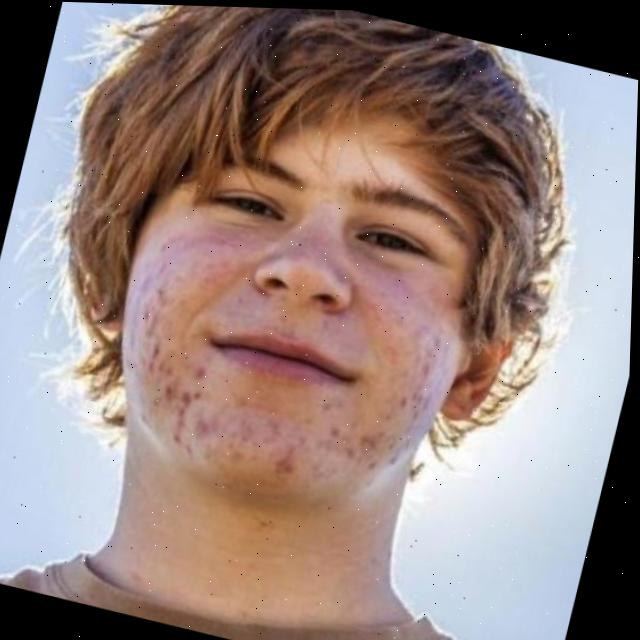Acne: (192, 367, 344, 501), (335, 323, 449, 494), (106, 314, 213, 468)
